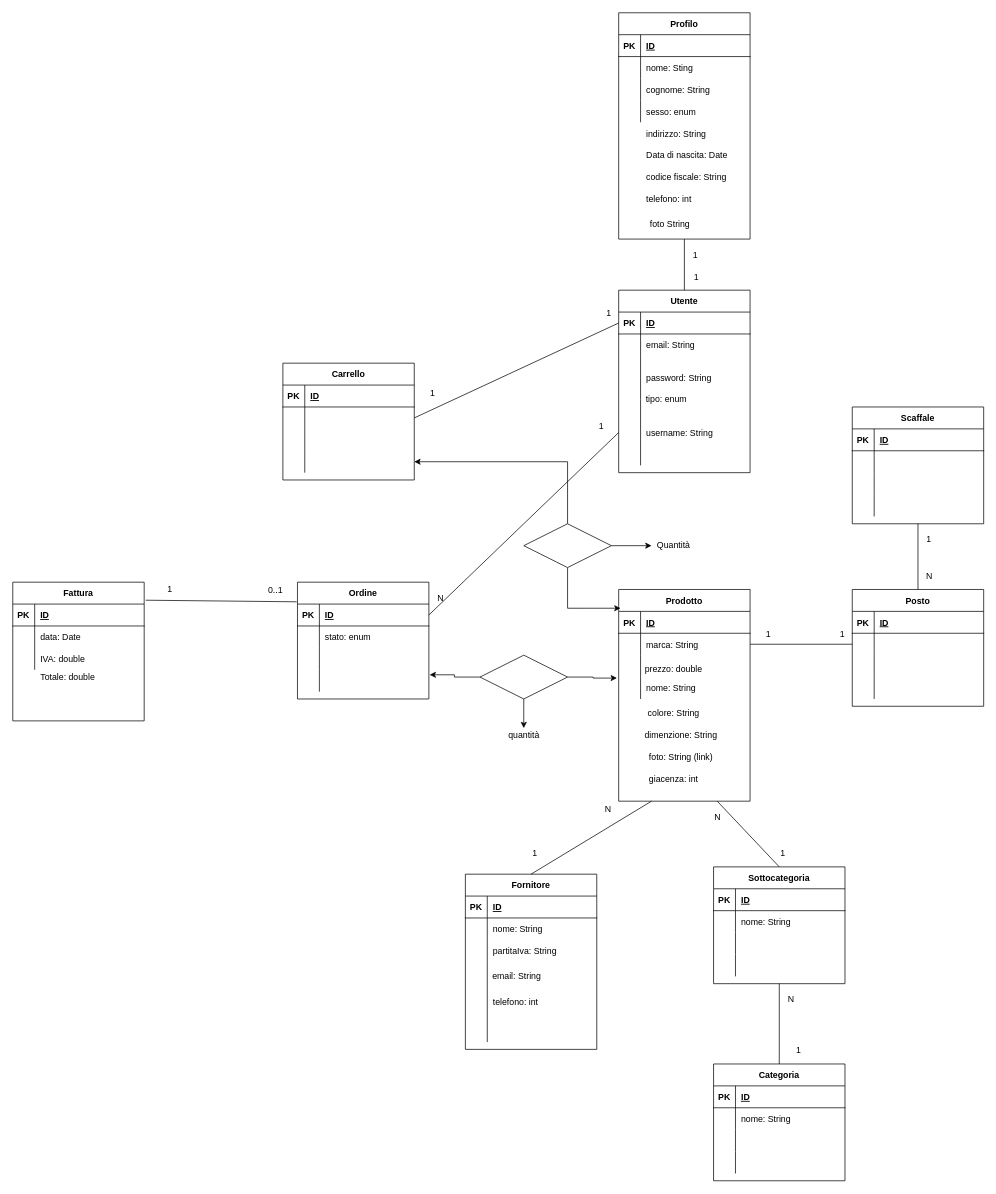
The diagram is 996 pixels wide and 1194 high, and some of its shapes have lost their labels. Each missing label, with the centre of its shape:
acquisto: (523,676)
metto nel carrello: (567,545)
